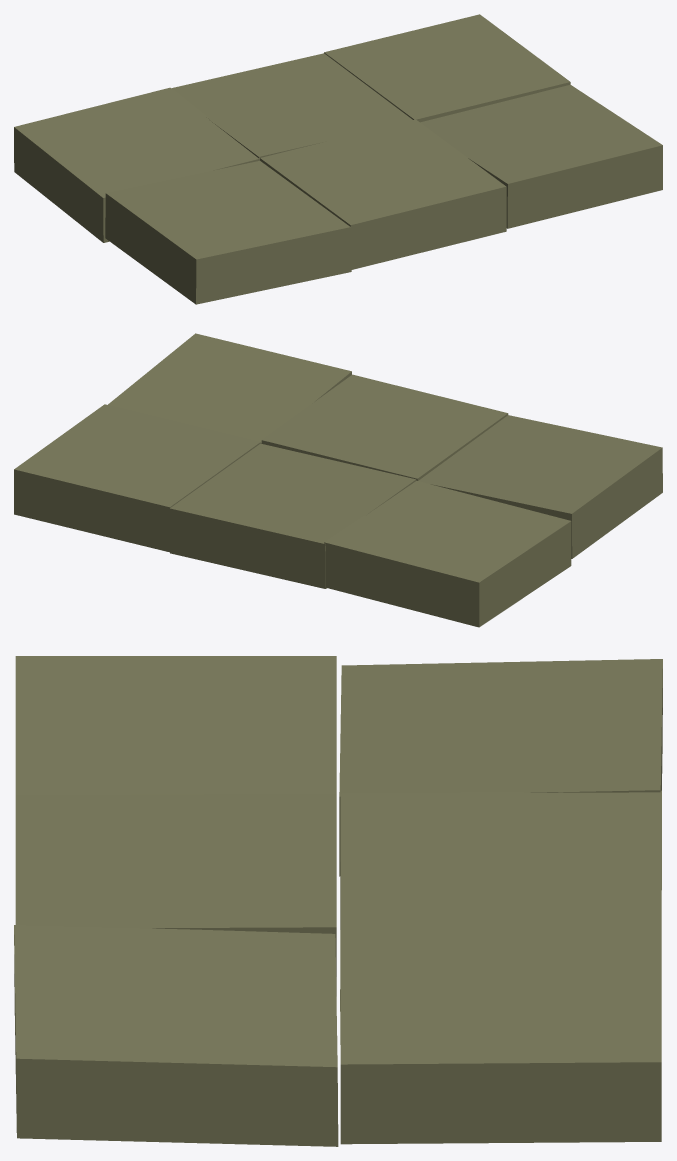
Rendered from не брать(1).fbx.
3 renders of one model, top to bottom at view 1: azimuth 30°, elevation 25°; view 2: azimuth 150°, elevation 25°; view 3: azimuth 270°, elevation 25°, orthographic. The views are drawn at different scales.
Visible parts, largest first — view 1: ground_simple22, ground_simple42, ground_simple62, ground_simple12, ground_simple52, ground_simple32; view 2: ground_simple12, ground_simple52, ground_simple32, ground_simple22, ground_simple62, ground_simple42; view 3: ground_simple52, ground_simple62, ground_simple22, ground_simple32, ground_simple42, ground_simple12.
Part boxes in pixels (<box>): ground_simple22: <box>105,161,351,304</box>; ground_simple42: <box>260,119,506,269</box>; ground_simple62: <box>420,84,662,228</box>; ground_simple12: <box>14,87,259,242</box>; ground_simple52: <box>324,14,570,122</box>; ground_simple32: <box>171,53,412,160</box>; ground_simple12: <box>324,480,571,627</box>; ground_simple52: <box>14,404,260,552</box>; ground_simple32: <box>169,443,416,588</box>; ground_simple22: <box>418,415,662,558</box>; ground_simple62: <box>108,333,351,443</box>; ground_simple42: <box>261,374,508,480</box>; ground_simple52: <box>340,927,661,1144</box>; ground_simple62: <box>14,925,338,1146</box>; ground_simple22: <box>15,656,336,795</box>; ground_simple32: <box>340,790,661,1011</box>; ground_simple42: <box>15,794,336,996</box>; ground_simple12: <box>339,659,662,876</box>.
Bounding box in the file's own units: 9.94 × 1.04 × 6.74.
